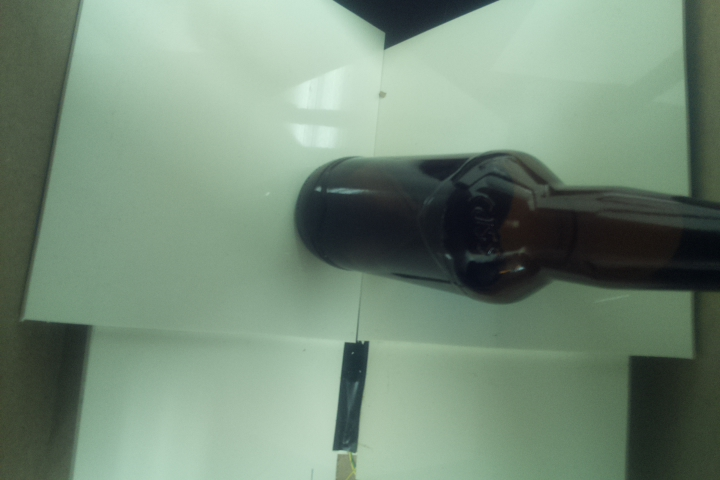makju: (293, 149, 720, 306)
